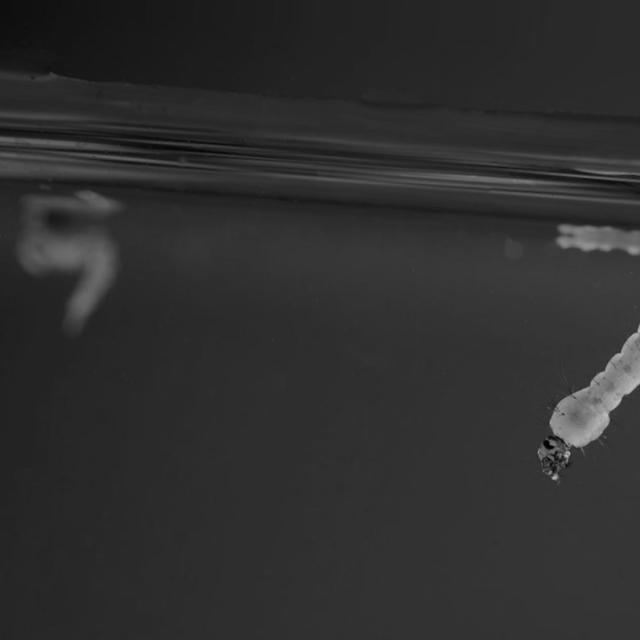larvas: (527, 316, 639, 496), (20, 220, 116, 338), (560, 226, 640, 258)
